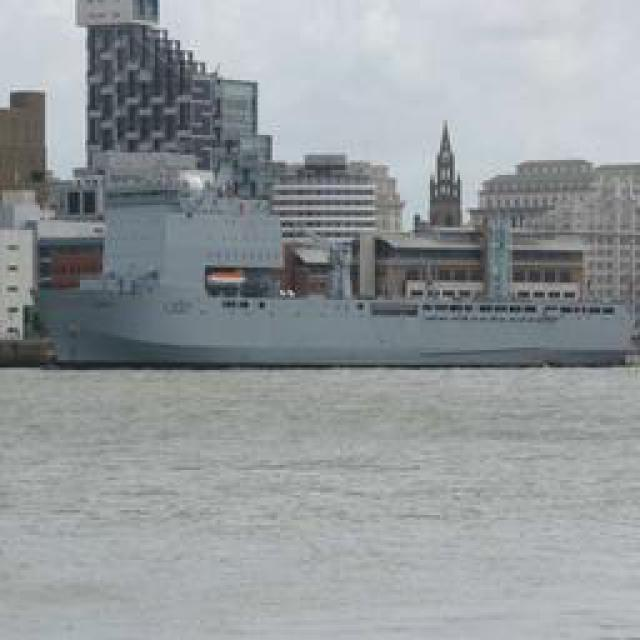Ship: (26, 181, 639, 374)
